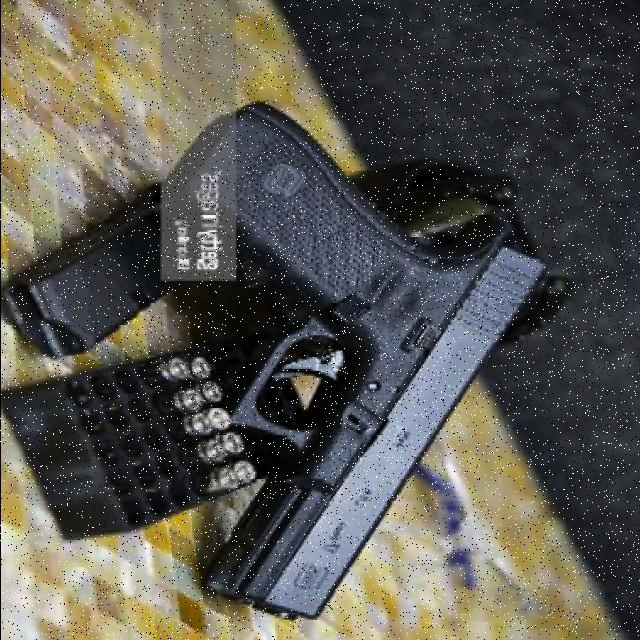Guns: (151, 98, 551, 619)
